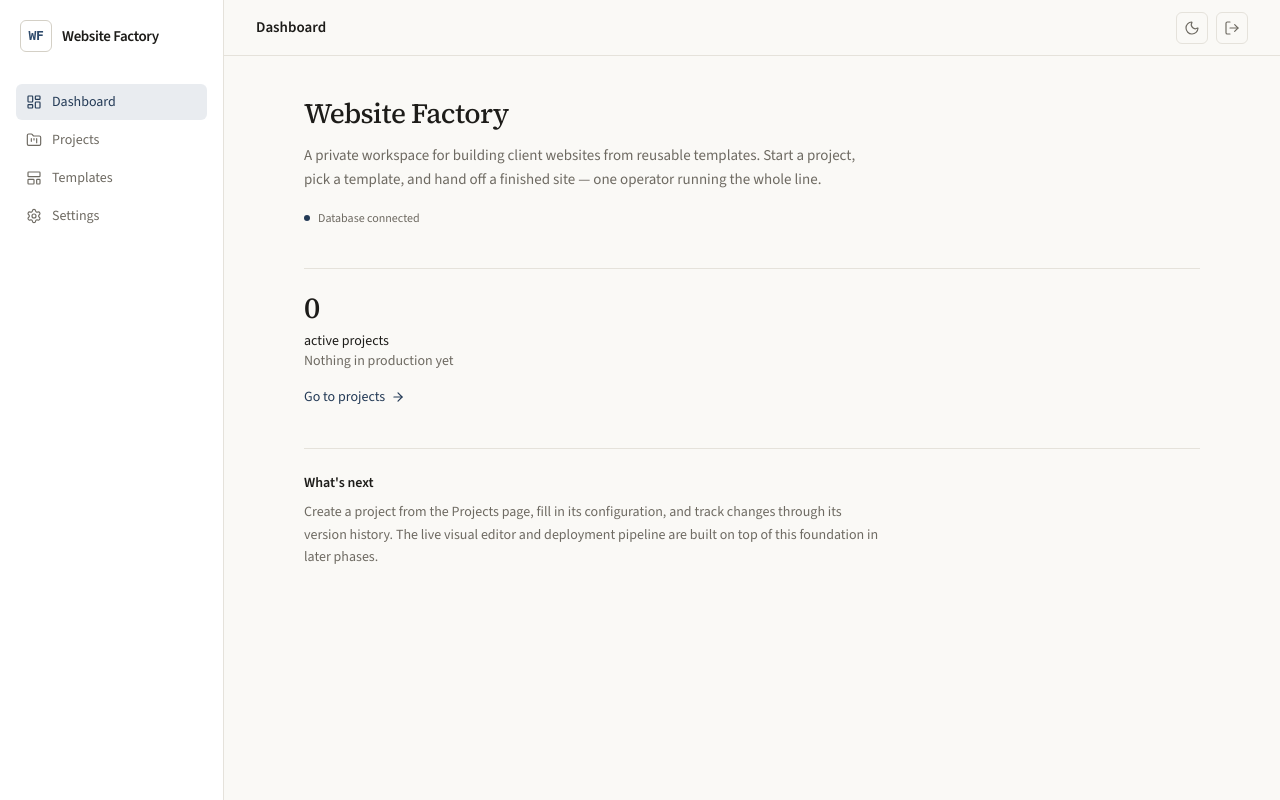
Test case: App routing › navigates to the projects empty state
The width and height of the screenshot is (1280, 800).
Expected: the heading "Website Factory" is shown, [304,94,509,132]
Step 1. Click the link "Projects" → x=63, y=140, box [26,130,99,149]
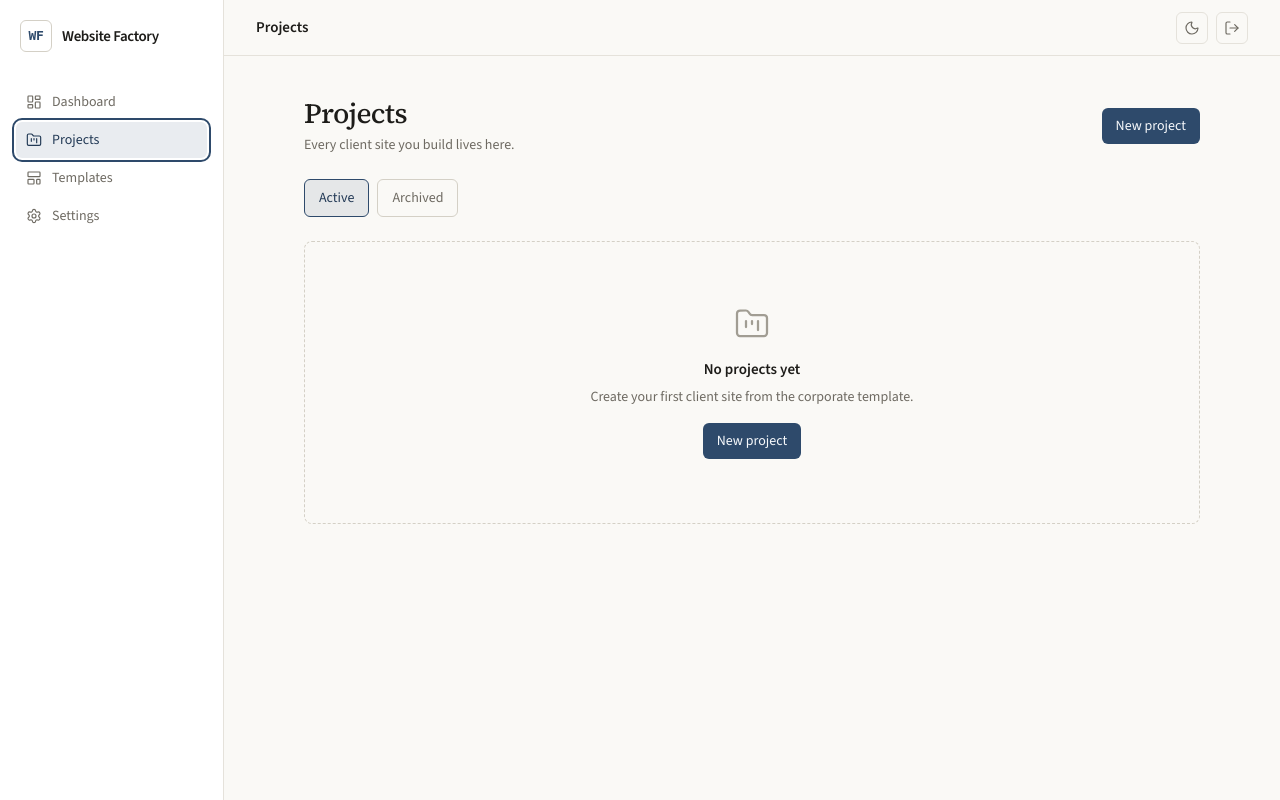
Now the heading "No projects yet" is shown, box [704,359,800,379]
